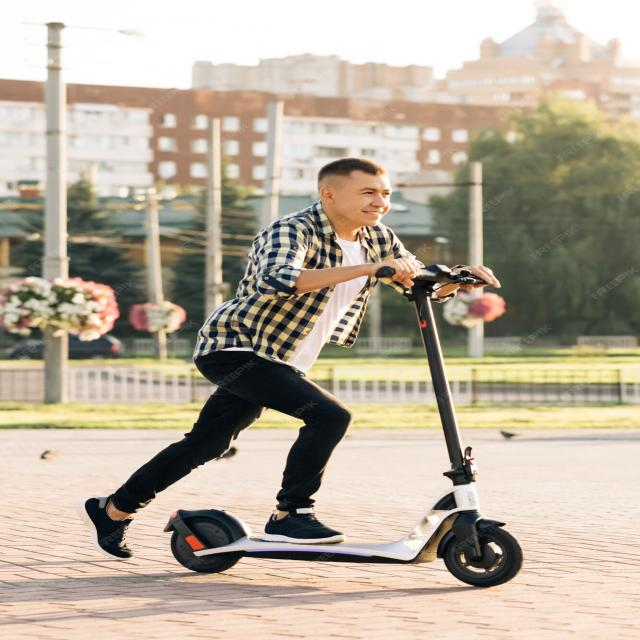non-helmet: (87, 149, 540, 595)
